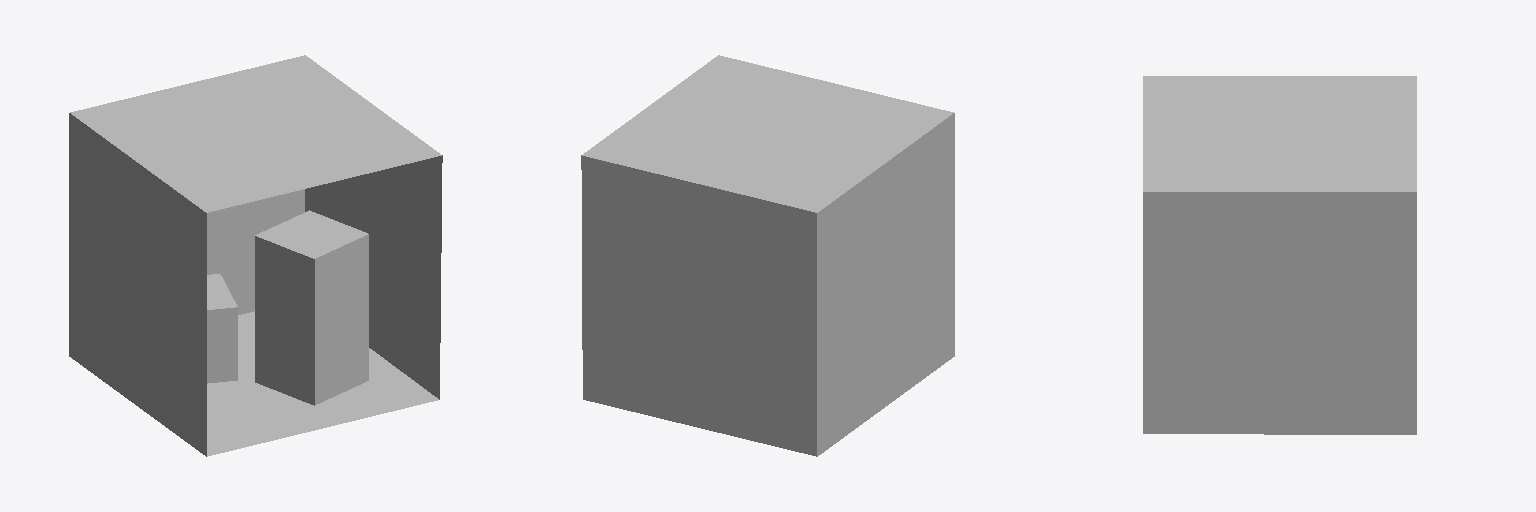
The model's file is friendlycornellbox.obj.
The picture shows the model from 3 angles: view 1: azimuth 30°, elevation 25°; view 2: azimuth 150°, elevation 25°; view 3: azimuth 270°, elevation 25°; orthographic projection.
Visible parts, largest first — view 1: anobject; view 2: anobject; view 3: anobject.
Part boxes in pixels (x1,y1,x2,y2): anobject: (69,55,442,456); anobject: (581,55,954,456); anobject: (1143,76,1416,434).
Bounding box in the file's own units: 556 × 549 × 559.